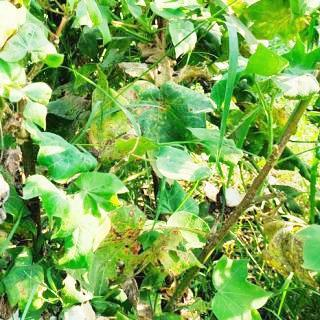blight: (85, 62, 224, 167), (82, 204, 217, 299)
